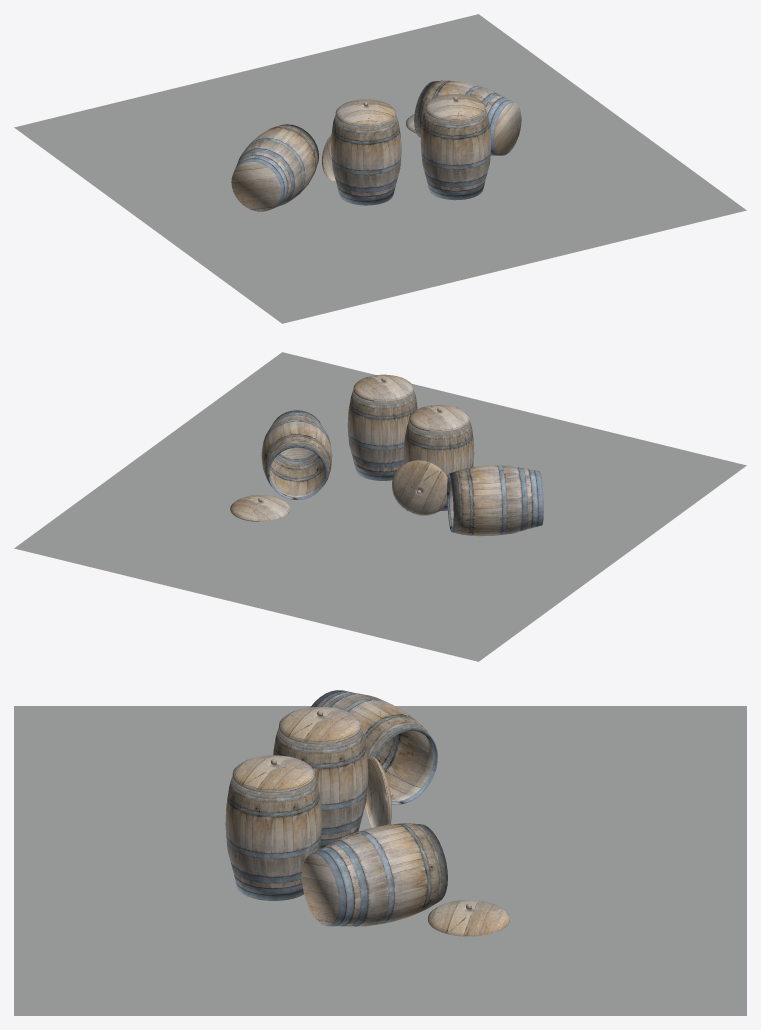
File: Barrel.fbx
The picture shows the model from 3 angles, top to bottom: view 1: azimuth 30°, elevation 25°; view 2: azimuth 150°, elevation 25°; view 3: azimuth 270°, elevation 25°; orthographic projection. The views are drawn at different scales.
Parts seen in each view (by area): view 1: Plane, Boddy.002, Boddy, Boddy.003, Boddy.001, Up, Up.003; view 2: Plane, Boddy.002, Boddy.001, Boddy.003, Boddy, Up.002, Up, Up.003, Up.001; view 3: Plane, Boddy.001, Boddy.003, Boddy.002, Boddy, Up.003, Up, Up.001, Up.002.
Part boxes in pixels (x1,y1,x2,y2): Plane: [14, 14, 746, 323]; Boddy.002: [231, 124, 318, 211]; Boddy: [331, 106, 401, 205]; Boddy.003: [420, 102, 491, 200]; Boddy.001: [414, 80, 521, 155]; Up: [335, 99, 395, 126]; Up.003: [425, 94, 485, 121]; Plane: [14, 352, 746, 661]; Boddy.002: [447, 465, 543, 536]; Boddy.001: [261, 410, 332, 499]; Boddy.003: [347, 382, 417, 480]; Boddy: [403, 412, 474, 510]; Up.002: [392, 460, 447, 515]; Up: [409, 405, 469, 432]; Up.003: [353, 374, 413, 402]; Up.001: [230, 495, 290, 521]; Plane: [14, 706, 746, 1015]; Boddy.001: [302, 823, 447, 926]; Boddy.003: [225, 763, 322, 900]; Boddy.002: [311, 690, 437, 804]; Boddy: [273, 715, 368, 848]; Up.003: [232, 755, 314, 792]; Up: [279, 706, 361, 744]; Up.001: [428, 900, 509, 936]; Up.002: [365, 756, 393, 827].
Bounding box in the file's own units: 59.89 × 11.6 × 59.89.
3 materials, 2 textured.
